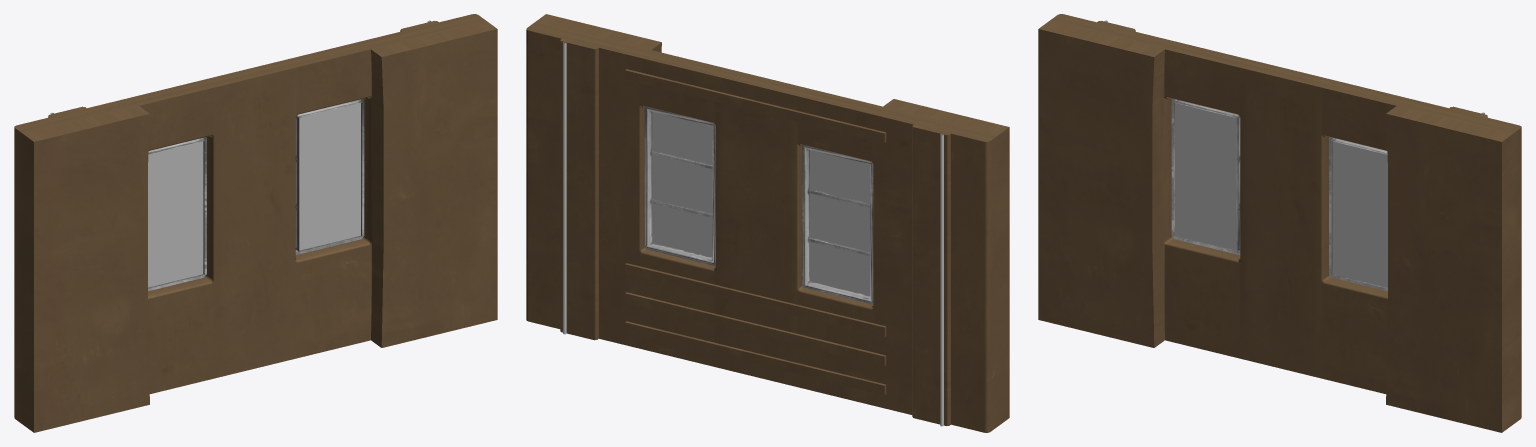
The model's file is SM_Building01Wall02R.fbx.
3 renders of one model, left to right at view 1: azimuth 30°, elevation 25°; view 2: azimuth 150°, elevation 25°; view 3: azimuth 330°, elevation 25°, orthographic.
Parts seen in each view (by area): view 1: SM_Building01Wall02R_LOD0; view 2: SM_Building01Wall02R_LOD0; view 3: SM_Building01Wall02R_LOD0.
Boxes of the visible parts, x1=… form: SM_Building01Wall02R_LOD0: x1=14, y1=14, x2=497, y2=432; SM_Building01Wall02R_LOD0: x1=526, y1=14, x2=1009, y2=432; SM_Building01Wall02R_LOD0: x1=1038, y1=14, x2=1521, y2=432.
Bounding box in the file's own units: 500 × 47.65 × 300.
Materials: 6 (4 with a texture image).
